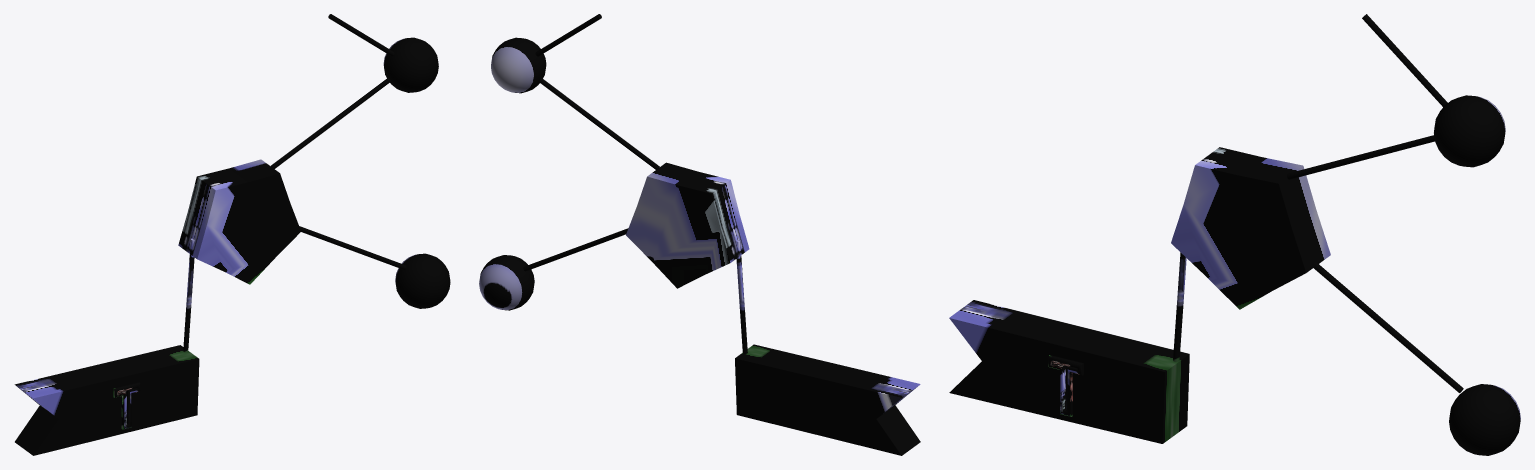
The model's file is a3dnax1.DAE.
3 renders of one model, left to right at view 1: azimuth 30°, elevation 25°; view 2: azimuth 150°, elevation 25°; view 3: azimuth 330°, elevation 25°, orthographic. The views are drawn at different scales.
Visible parts, largest first — view 1: Text02; view 2: Text02; view 3: Text02.
Boxes of the visible parts, x1,y1,x2,y2 form: Text02: (14,14,450,455); Text02: (479,14,920,455); Text02: (949,14,1520,455).
Bounding box in the file's own units: 194 × 22.05 × 156.
Materials: 1 (1 with a texture image).
